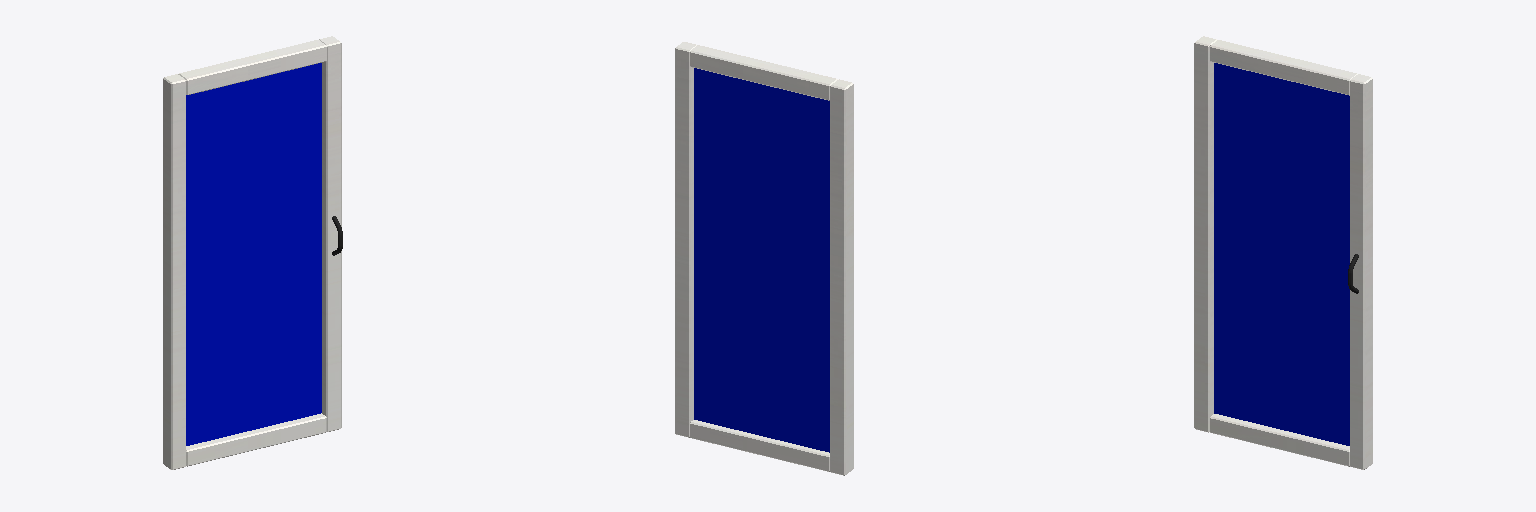
3 renders of one model, left to right at view 1: azimuth 30°, elevation 25°; view 2: azimuth 150°, elevation 25°; view 3: azimuth 330°, elevation 25°, orthographic.
Parts seen in each view (by area): view 1: Object001saqw, Object179; view 2: Object001saqw, Object179; view 3: Object001saqw, Object179.
Boxes of the visible parts, x1=… form: Object001saqw: x1=186, y1=63, x2=321, y2=445; Object179: x1=163, y1=36, x2=341, y2=469; Object001saqw: x1=694, y1=68, x2=829, y2=452; Object179: x1=675, y1=42, x2=853, y2=475; Object001saqw: x1=1214, y1=63, x2=1349, y2=445; Object179: x1=1194, y1=36, x2=1372, y2=469.
Bounding box in the file's own units: 438 × 950 × 72.94.
3 materials, 1 textured.